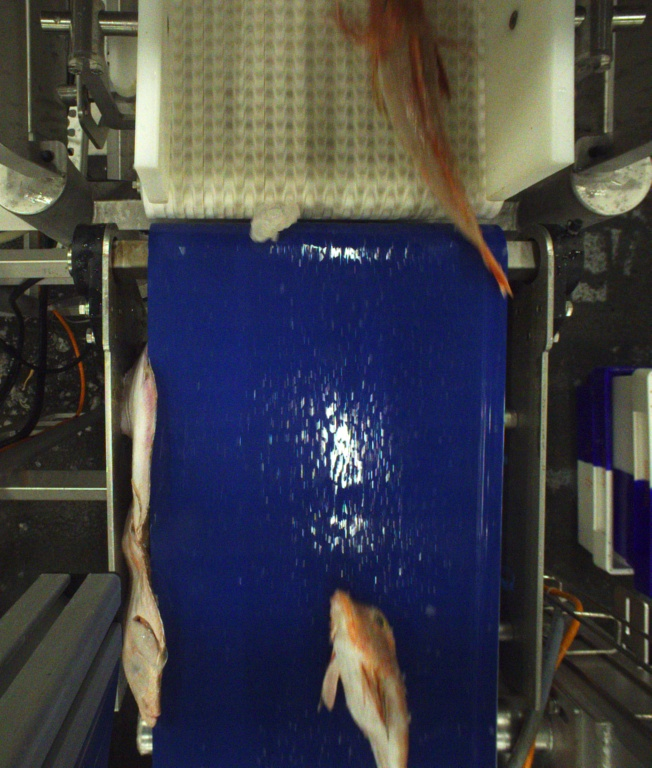GUU: (364, 0, 516, 300)
